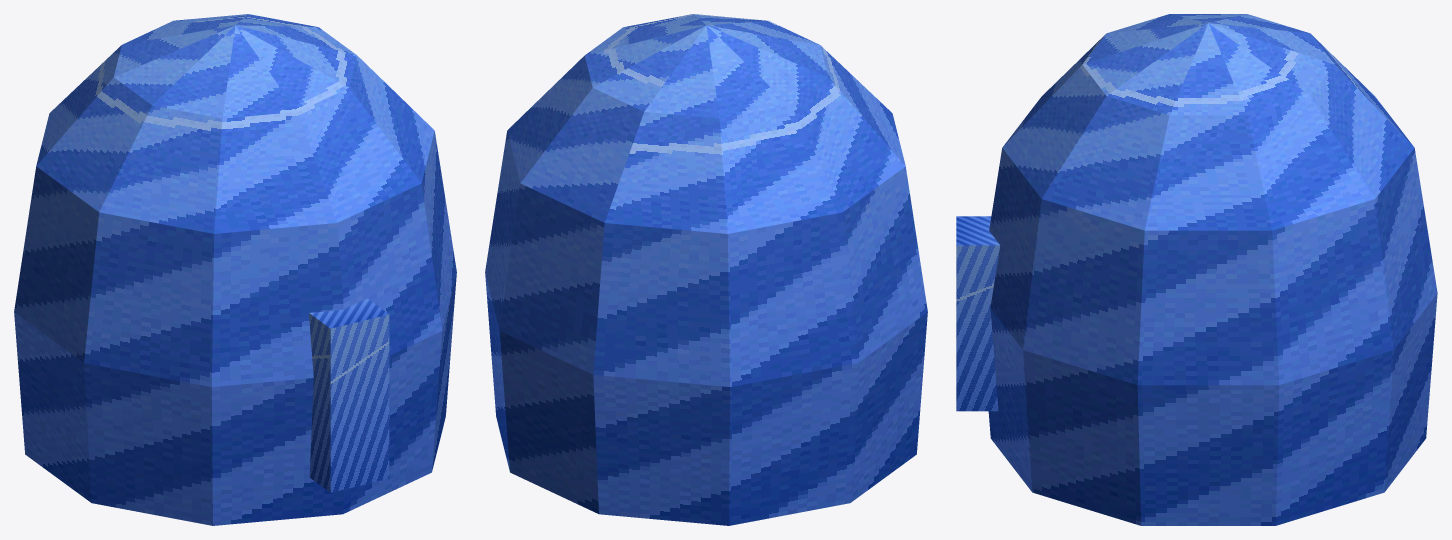
Rendered from capacete_de_safira.glb.
3 views of the same model, side by side, from view 1: azimuth 30°, elevation 25°; view 2: azimuth 150°, elevation 25°; view 3: azimuth 270°, elevation 25° (orthographic).
Visible parts, largest first — view 1: capacete_de_safira; view 2: capacete_de_safira; view 3: capacete_de_safira.
Boxes of the visible parts, x1,y1,x2,y2 form: capacete_de_safira: (14,14,456,525); capacete_de_safira: (485,14,927,525); capacete_de_safira: (956,14,1437,525).
Size of the model in its own units: 0.3804 by 0.4 by 0.42.
1 material, 1 textured.
